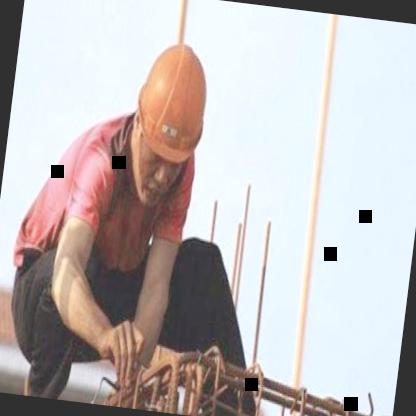helmet: (112, 16, 219, 236)
